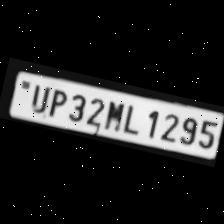1: (138, 104, 162, 138)
2: (155, 107, 182, 143), (82, 92, 106, 126)
3: (63, 88, 88, 122)
5: (193, 114, 221, 150)
9: (175, 112, 200, 146)
L: (119, 99, 146, 134)
M: (100, 96, 127, 132)
P: (44, 84, 68, 118)
U: (25, 79, 50, 113)
